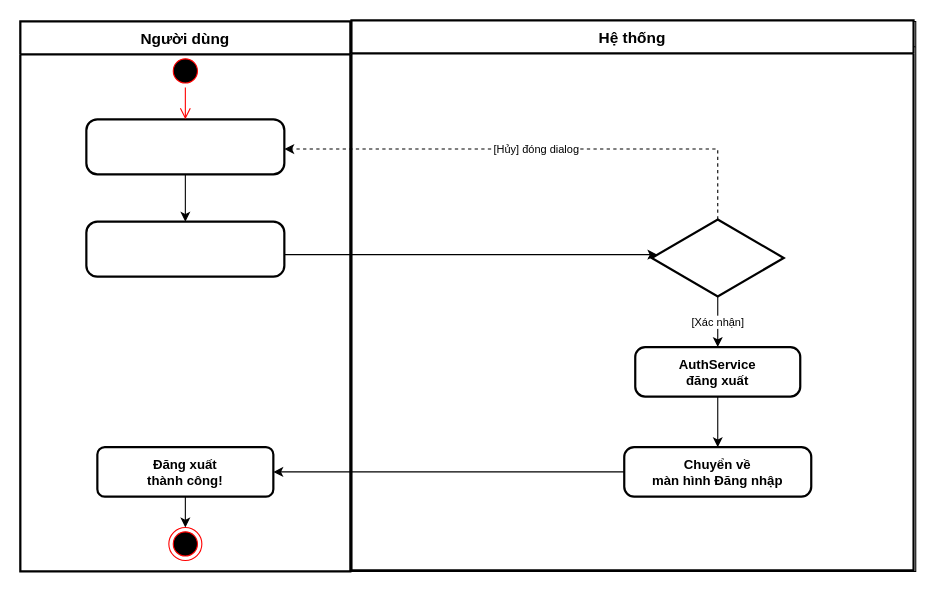
Image size: 935x591. Some labels were removed from this diagram. Each missing label, with the centre of its shape:
"Nhấn nút ĐĂNG XUẤT" goes at point (185, 248).
"Vào trang Hồ sơ" goes at point (185, 146).
"Xác nhận đăng xuất?" goes at point (717, 257).
